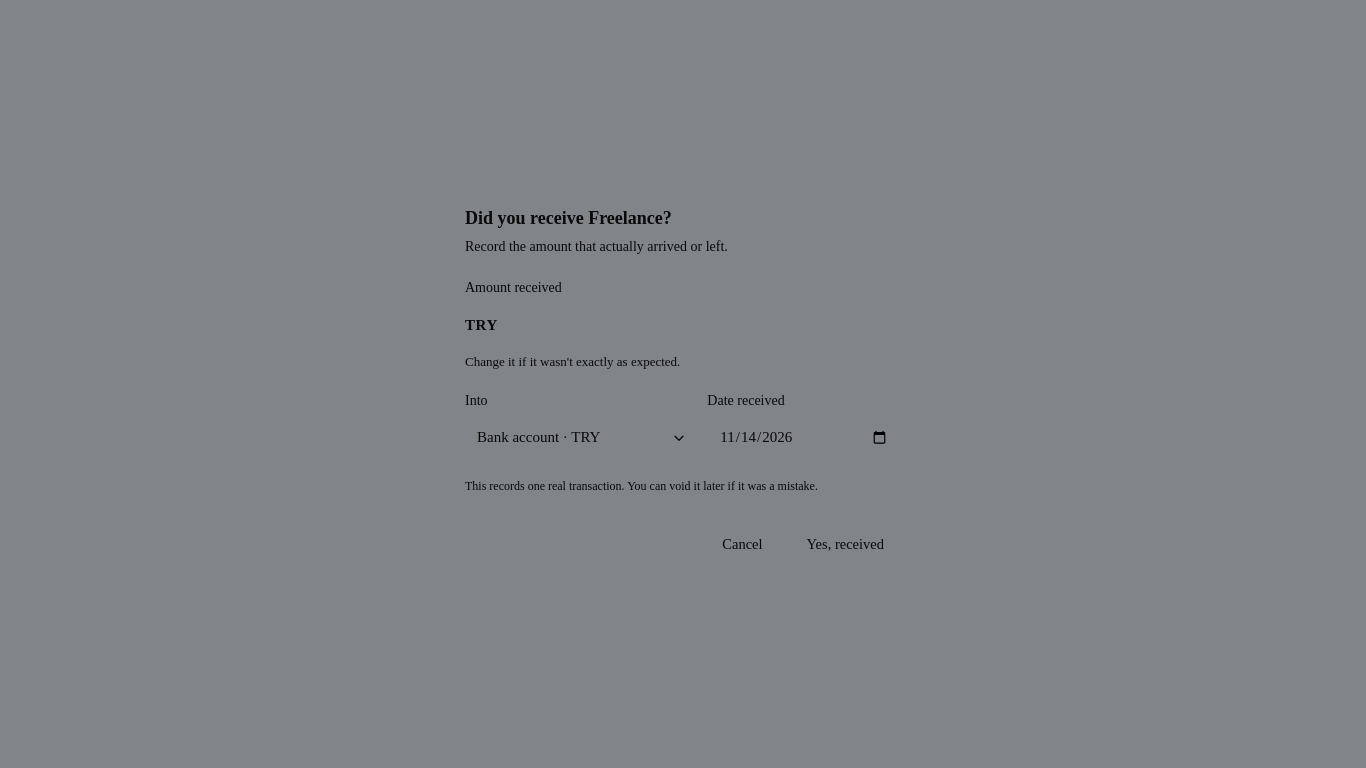
confirming › a variable amount must be entered
Click the button "Yes, received".
click(845, 545)  # box 790,525 -> 901,565
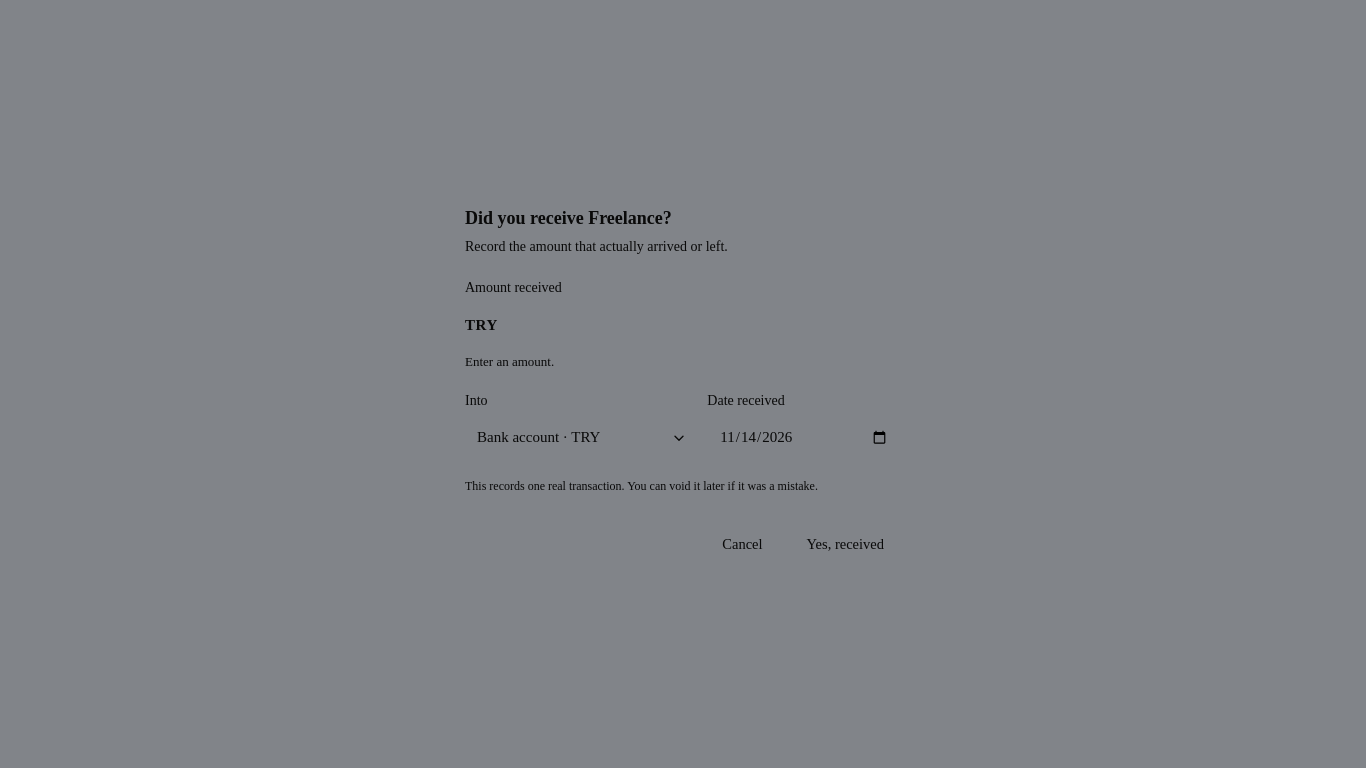
Check: the text "Enter an amount." is shown, box 465,354 -> 554,369
